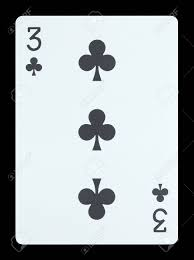three of clubs: (17, 17, 178, 244)
